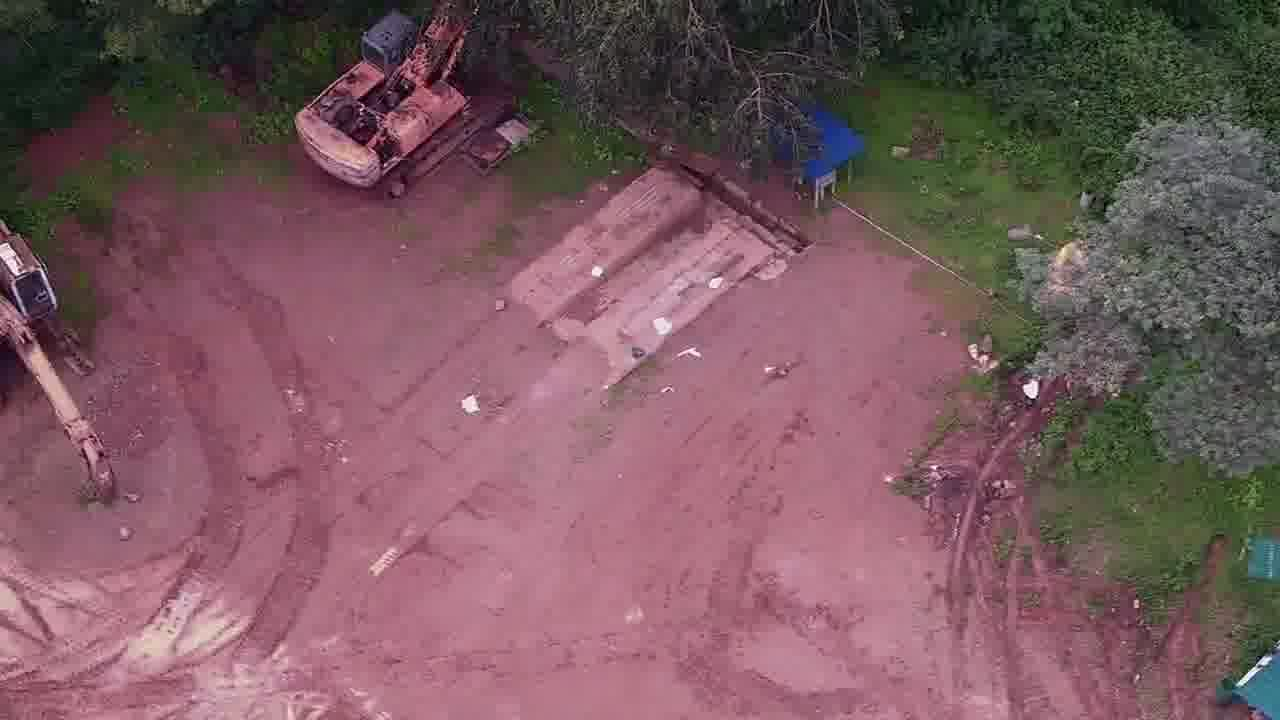HMV: (280, 4, 490, 192)
